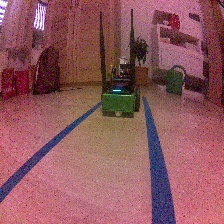rob: (99, 62, 141, 117)
